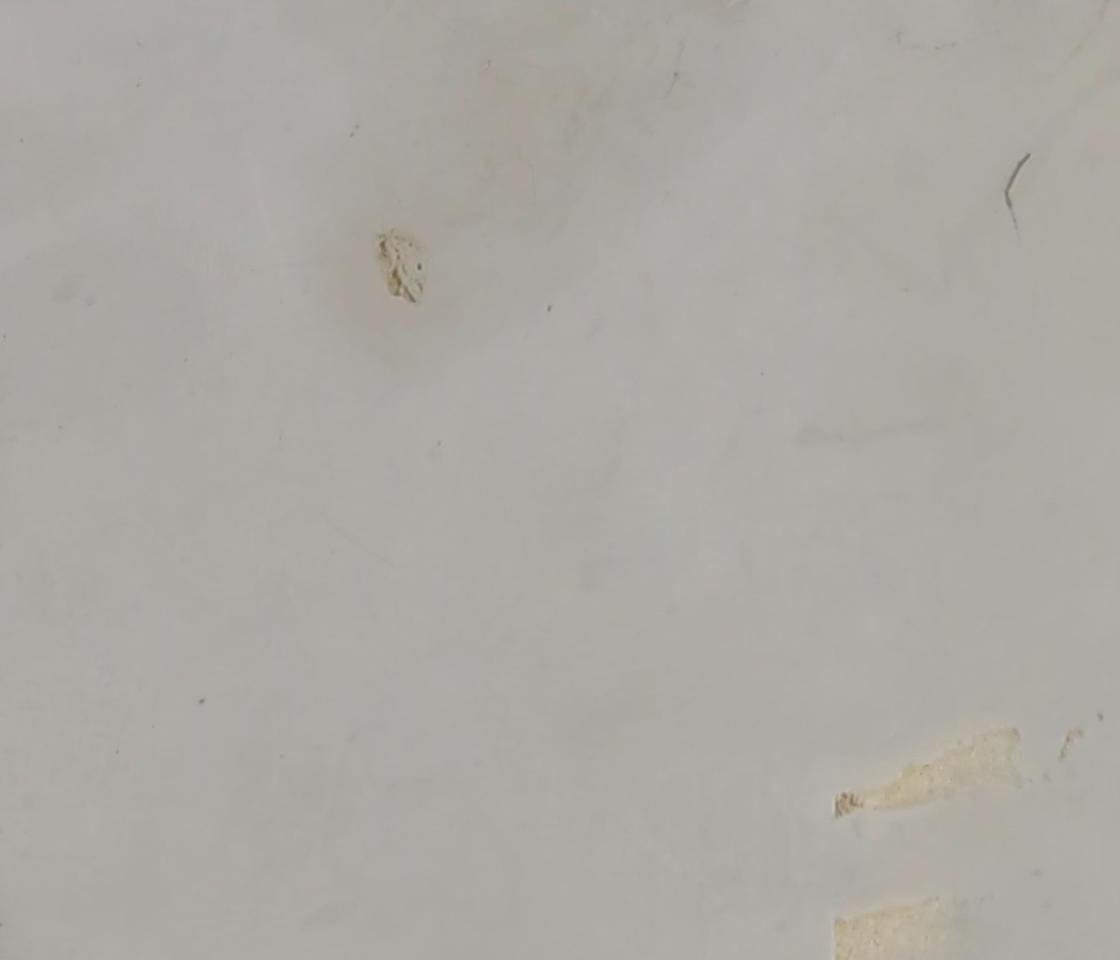paint_peel: (814, 722, 1029, 823), (825, 899, 946, 960)
